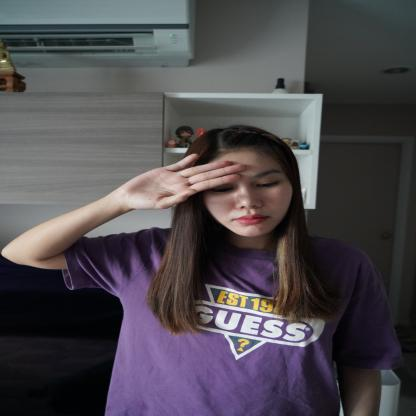Sick: (90, 136, 258, 215)
